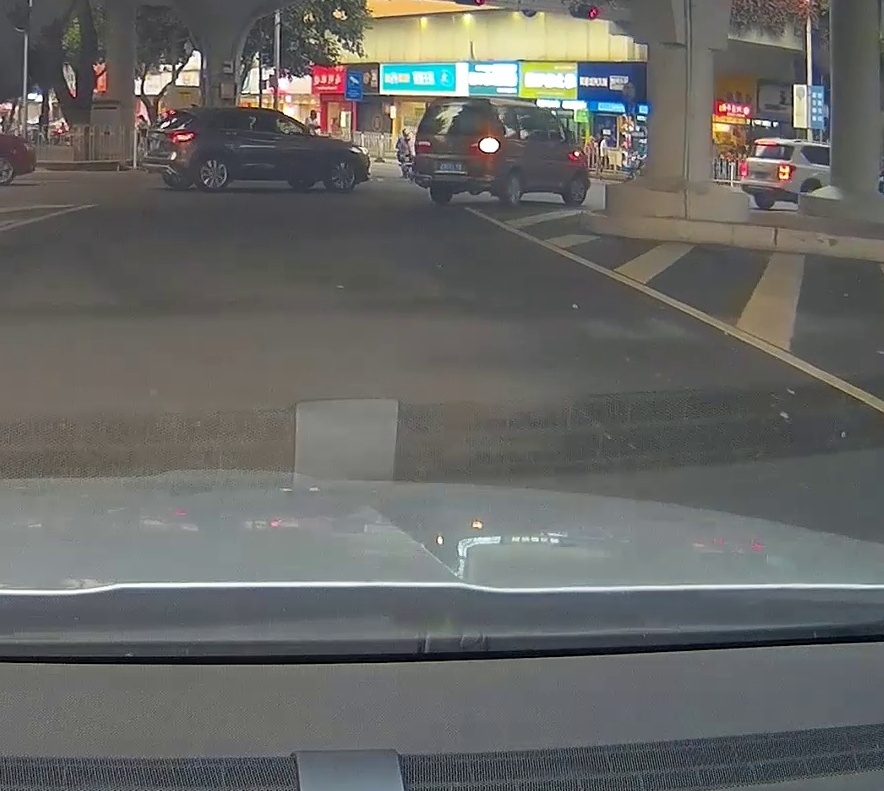L_light: (414, 140, 432, 153), (740, 161, 749, 176)
R_light: (473, 137, 500, 154), (778, 164, 795, 180)
T_light: (758, 141, 776, 146), (451, 104, 467, 109)
day-right: (412, 96, 502, 203), (739, 138, 796, 209)
